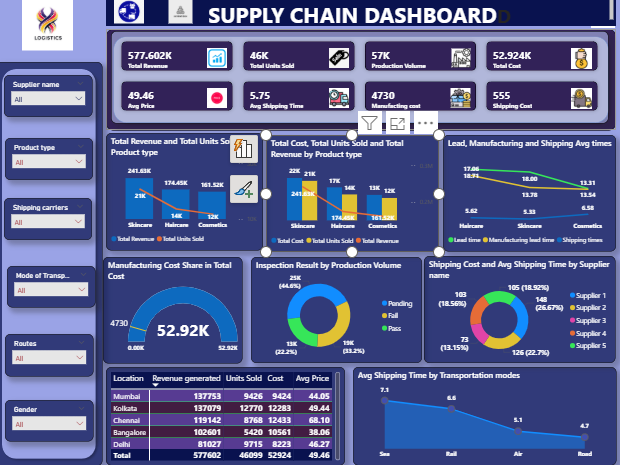

The dashboard page shown, as its layout file describes it:
{"tool":"powerbi","page":{"name":"Page 1","canvas":[1270,960],"ordinal":0},"visuals":[{"type":"shape","box":[225,63.8,1020,202.5],"z":0},{"type":"lineStackedColumnComboChart","fields":{"Category":["supply_chain_data.Product type"],"Y":["Measures _table.Total Revenue"],"Y2":["Measures _table.Total Units Sold"]},"box":[225,271.2,313.8,235],"z":1000},{"type":"shape","box":[3.8,129.5,215.4,807.7],"z":2000},{"type":"slicer","fields":{"Values":["supply_chain_data.Product type"]},"box":[23.3,282.2,175.6,84.4],"z":3000},{"type":"slicer","fields":{"Values":["supply_chain_data.Customer demographics"]},"box":[23.1,805.1,176.9,83.3],"z":4000},{"type":"slicer","fields":{"Values":["supply_chain_data.Transportation modes"]},"box":[28.2,538.5,176.9,83.3],"z":5000},{"type":"slicer","fields":{"Values":["supply_chain_data.Supplier name"]},"box":[22.2,156.7,176.7,84.4],"z":6000},{"type":"slicer","fields":{"Values":["supply_chain_data.Routes"]},"box":[23.1,674.4,176.9,84.6],"z":7000},{"type":"slicer","fields":{"Values":["supply_chain_data.Shipping carriers"]},"box":[22.2,401.1,176,84],"z":8000},{"type":"lineChart","title":"Lead, Manufacturing and Shipping Avg times ","fields":{"Category":["supply_chain_data.Product type"],"Y":["Avg(supply_chain_data.Lead time)","Avg(supply_chain_data.Manufacturing lead time)","Avg(supply_chain_data.Shipping times)"]},"box":[900,275.6,346.2,233.3],"z":9000},{"type":"donutChart","title":"Inspection Result by Production Volume","fields":{"Category":["supply_chain_data.Inspection results"],"Y":["Measures _table.Total Production Volume"]},"box":[515.4,519.2,342.3,212],"z":10000},{"type":"lineChart","fields":{"Category":["supply_chain_data.Transportation modes"],"Y":["Measures _table.Avg Shipping Time"]},"box":[719.2,739.7,526.9,197.4],"z":11000},{"type":"lineClusteredColumnComboChart","fields":{"Category":["supply_chain_data.Product type"],"Y":["Measures _table.Total Cost","Measures _table.Total Units Sold"],"Y2":["Measures _table.Total Revenue"]},"box":[546.2,276.2,346.2,233.8],"z":12000},{"type":"textbox","box":[225,0,1020,57.5],"z":13000},{"type":"image","box":[219.2,0,103.8,57.7],"z":14000},{"type":"image","box":[300,0,150.6,58.2],"z":15000},{"type":"cardVisual","title":"dfdfdfdfffdfdf","fields":{"Data":["Measures _table.Total Revenue","Measures _table.Average Price","Measures _table.Total Units Sold","Measures _table.Average Shipping Time","Measures _table.Total Production Volume","Measures _table.Total_Manufacting_cost","Measures _table.Average Shipping Cost","Measures _table.Total_Shipping_cost"]},"box":[235,68.8,995,185],"z":16000},{"type":"donutChart","fields":{"Y":["Measures _table.Shipping Cost"],"Series":["supply_chain_data.Supplier name"]},"box":[862.8,517.9,383.3,214.1],"z":17000},{"type":"pivotTable","fields":{"Rows":["supply_chain_data.Location"],"Values":["Sum(supply_chain_data.Revenue generated)","Measures _table.Total Units Sold","Measures _table.Total Cost","Measures _table.Avg Price"]},"box":[225.6,739.7,478.2,197.4],"z":18000},{"type":"gauge","title":"Manufacturing Cost Share in Total Cost","fields":{"Y":["Measures _table.Total Cost"],"MaxValue":["Measures _table.Total Cost"],"TargetValue":["Measures _table.Manufacting cost"]},"box":[219.2,519.2,279.5,212.8],"z":19000},{"type":"image","box":[21.8,0,173.1,111.5],"z":20000}]}

Visuals, with their boxes in screenshot pixels (x1, y1, x2, y2), scaled from the page's 1270x960 canvas onto the 620x465 screenshot:
shape: (110,31,608,129)
lineStackedColumnComboChart - supply_chain_data.Product type x Measures _table.Total Revenue: (110,131,263,245)
shape: (2,63,107,454)
slicer - supply_chain_data.Product type: (11,137,97,178)
slicer - supply_chain_data.Customer demographics: (11,390,98,430)
slicer - supply_chain_data.Transportation modes: (14,261,100,301)
slicer - supply_chain_data.Supplier name: (11,76,97,117)
slicer - supply_chain_data.Routes: (11,327,98,368)
slicer - supply_chain_data.Shipping carriers: (11,194,97,235)
"Lead, Manufacturing and Shipping Avg times " lineChart: (439,133,608,246)
"Inspection Result by Production Volume" donutChart: (252,251,419,354)
lineChart - supply_chain_data.Transportation modes x Measures _table.Avg Shipping Time: (351,358,608,454)
lineClusteredColumnComboChart - supply_chain_data.Product type x Measures _table.Total Cost: (267,134,436,247)
textbox: (110,0,608,28)
image: (107,0,158,28)
image: (146,0,220,28)
"dfdfdfdfffdfdf" cardVisual: (115,33,600,123)
donutChart - Measures _table.Shipping Cost x supply_chain_data.Supplier name: (421,251,608,355)
pivotTable - supply_chain_data.Location x Sum(supply_chain_data.Revenue generated): (110,358,344,454)
"Manufacturing Cost Share in Total Cost" gauge: (107,251,243,355)
image: (11,0,95,54)
